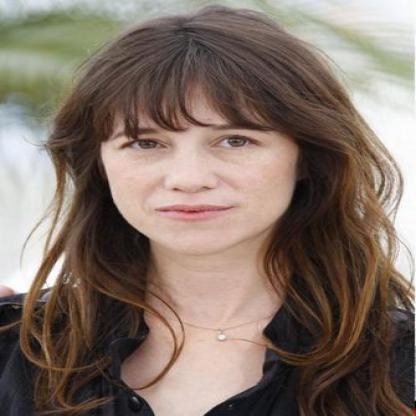long-hair: (27, 252, 401, 305)
